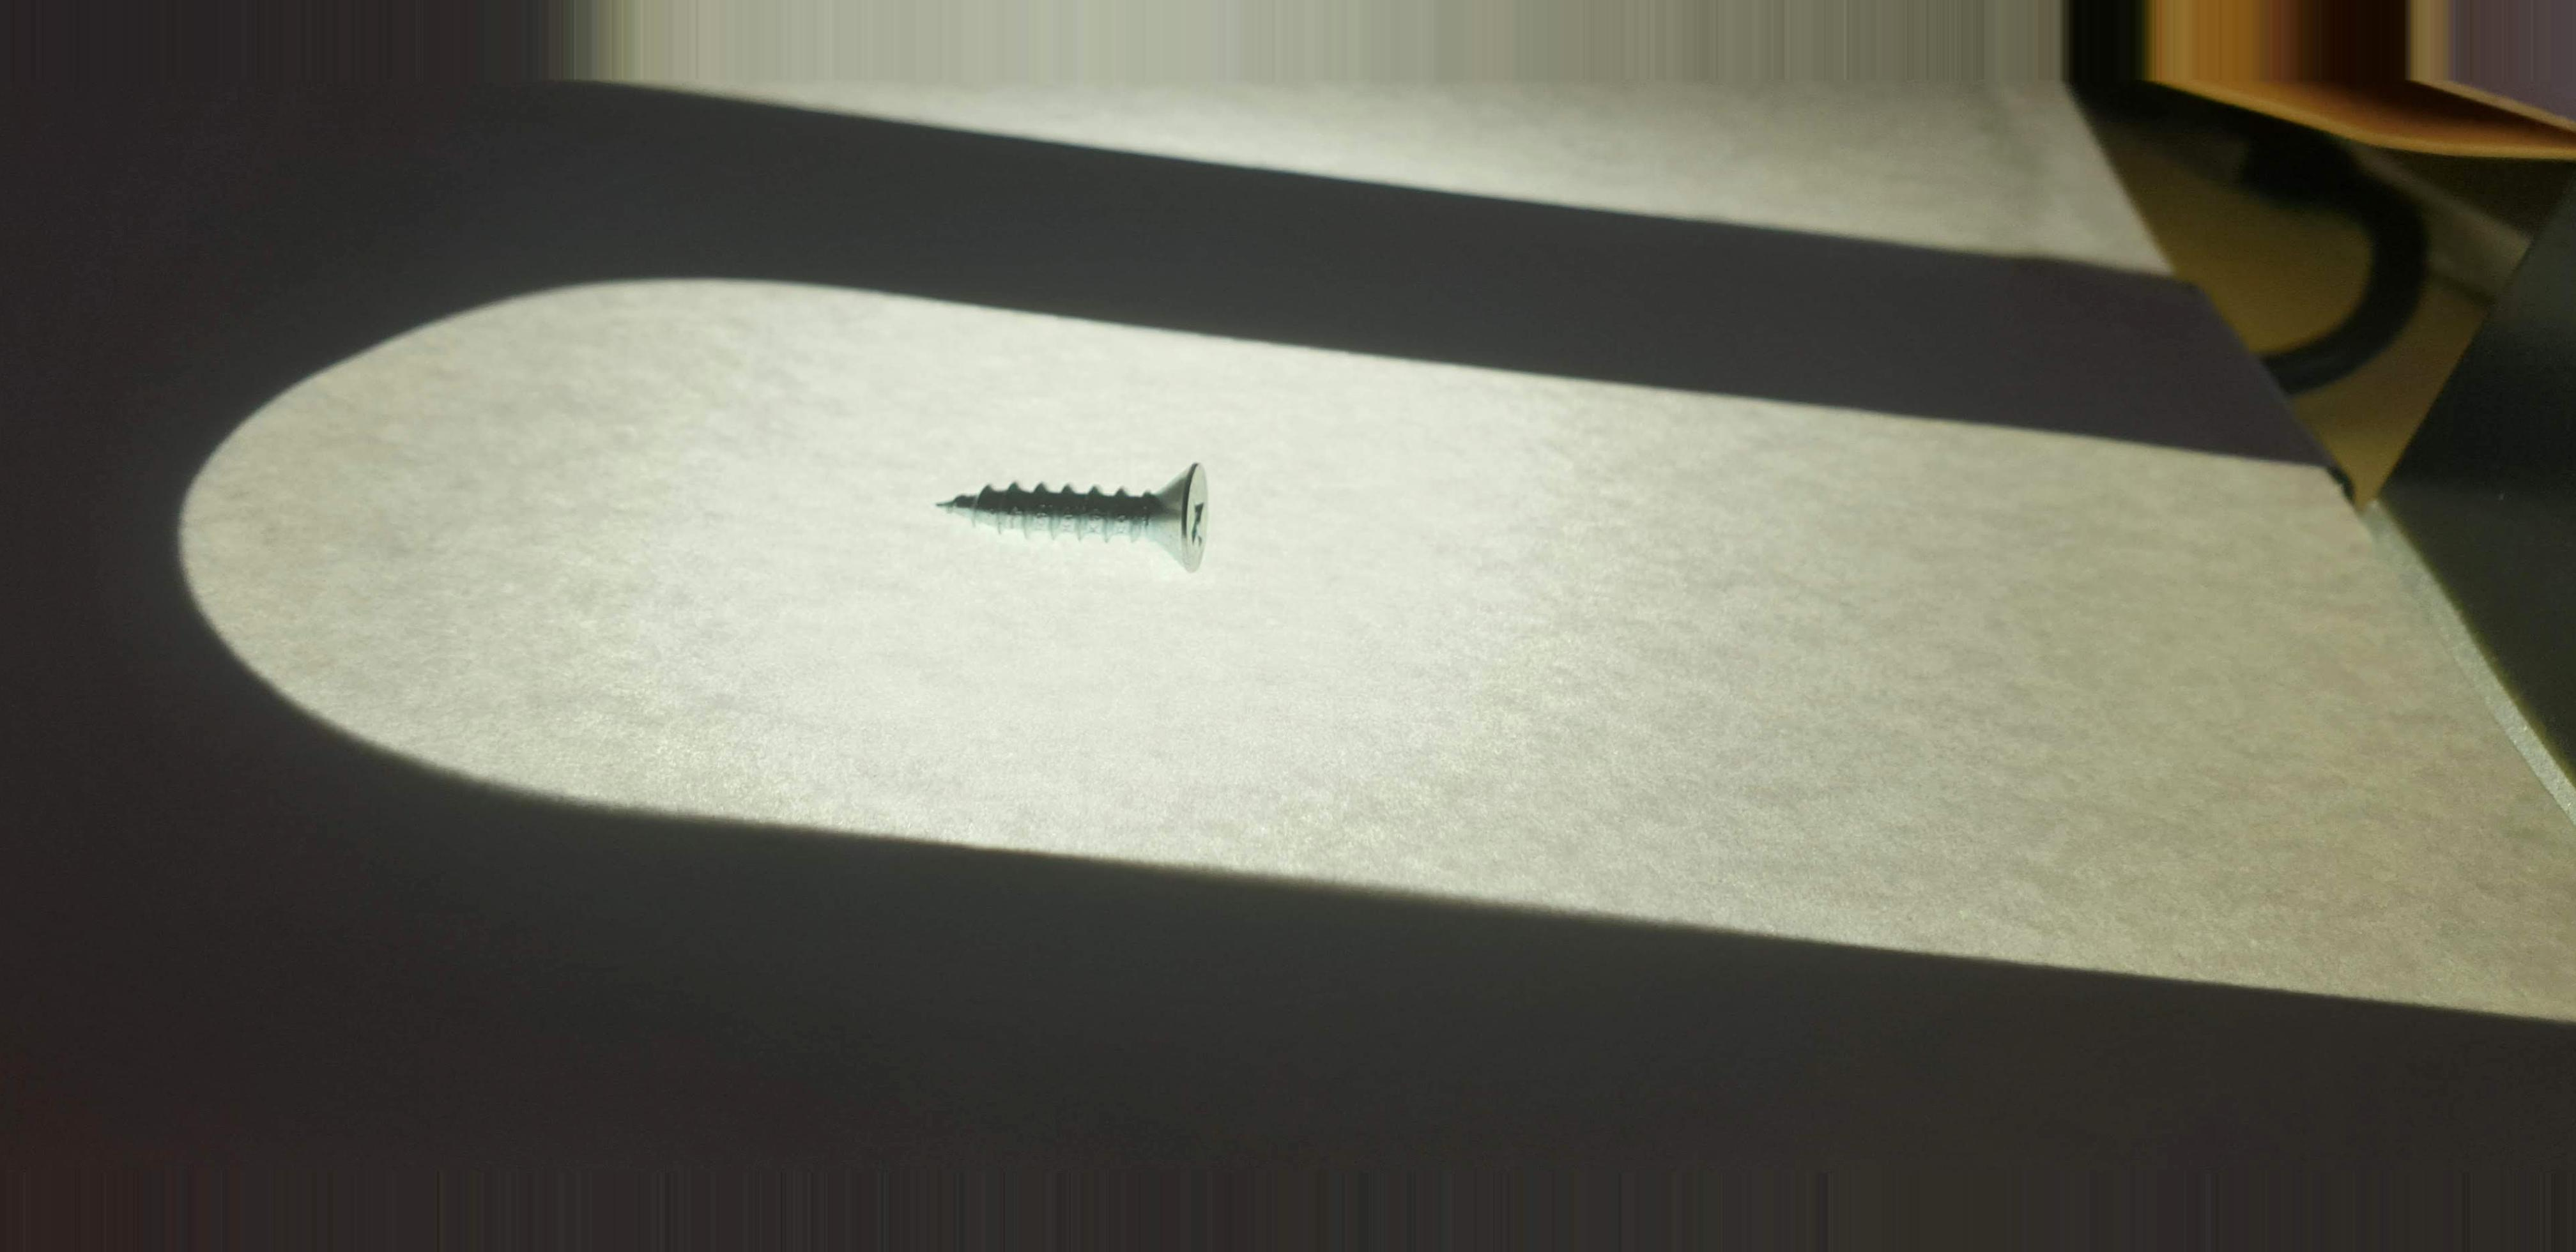S003: (900, 437, 1268, 614)
